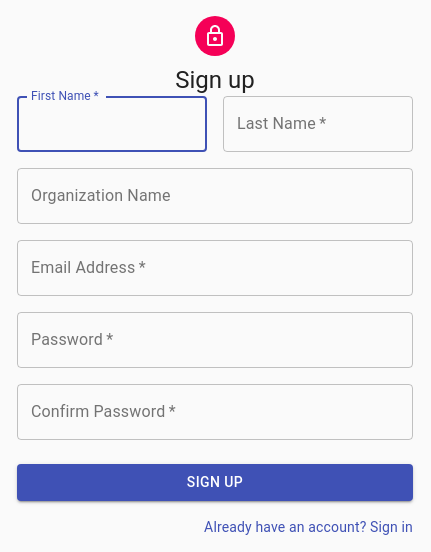
Test case: <RegistrationForm /> › Clicking on existing user Login button › redirects to login page upon clicking already have an account url
This screenshot has width=431, height=552.
Click the link with test id "loginButton" at [309, 526], box left=204, top=518, right=413, bottom=534
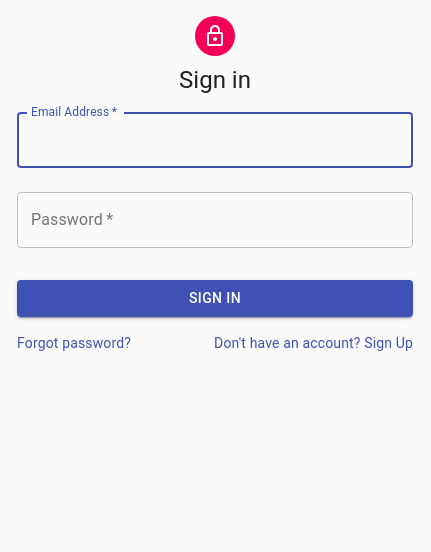
expect the field "emailID" is gone: met
expect the field with test id "loginId" is empty: met, box left=17, top=112, right=413, bottom=168
